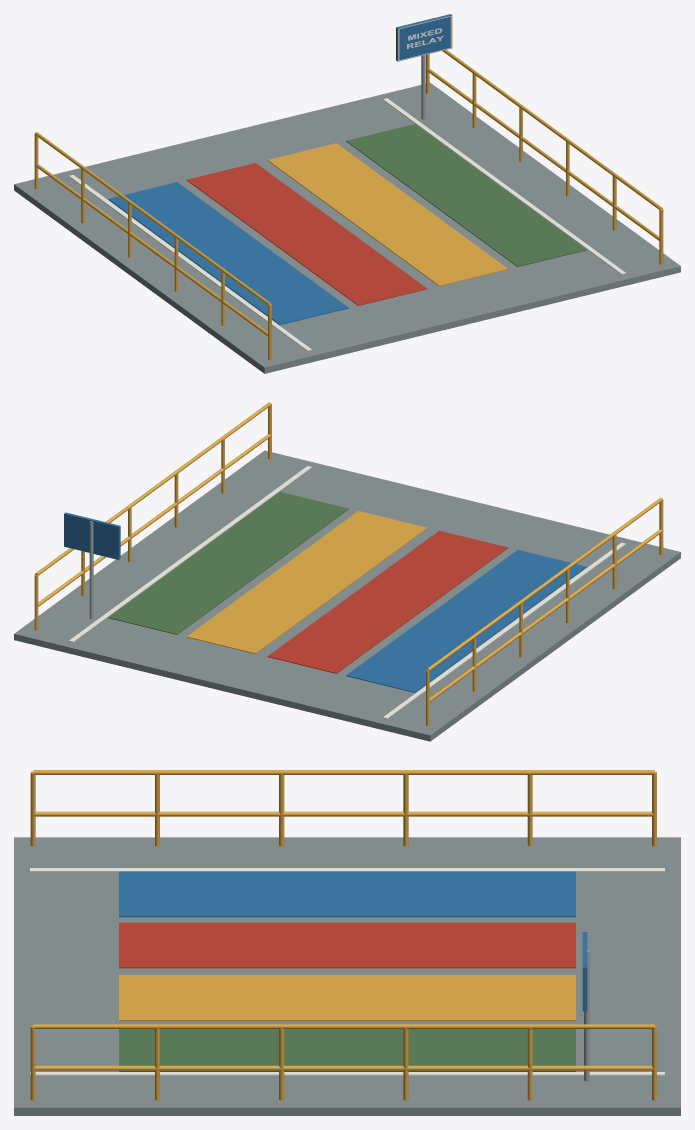
The model's file is scendance-plan-mixed-relay-zone.glb.
3 renders of one model, top to bottom at view 1: azimuth 30°, elevation 25°; view 2: azimuth 150°, elevation 25°; view 3: azimuth 270°, elevation 25°, orthographic. The views are drawn at different scales.
Bounding box in the file's own units: 7 × 1.67 × 7.3.
Materials: 9 (1 with a texture image).
